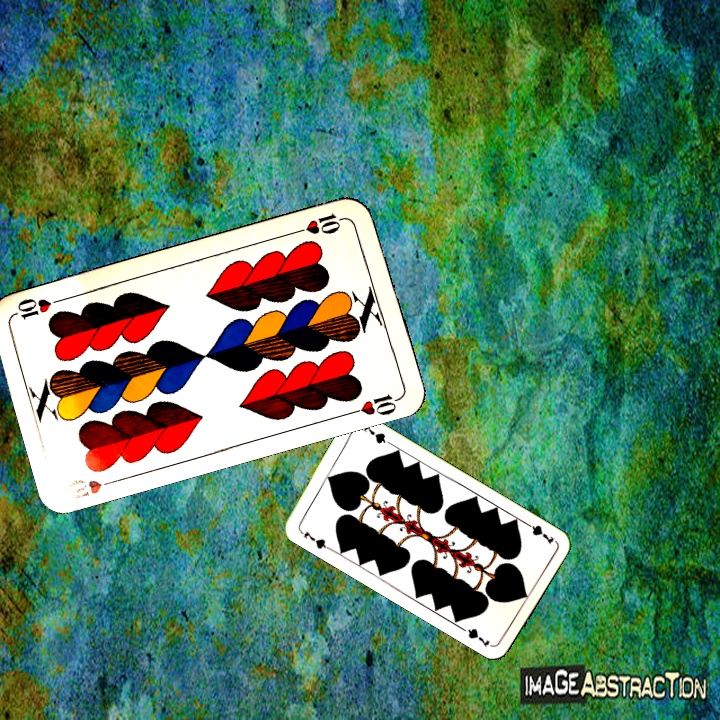G7: (520, 518, 557, 547), (295, 526, 332, 552)
H10: (291, 209, 349, 237), (67, 474, 122, 502)
